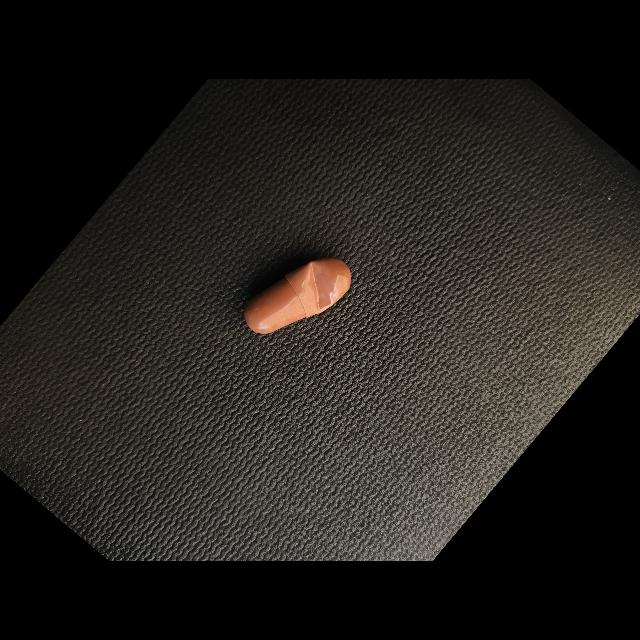Defective Capsule: (299, 261, 339, 311)
